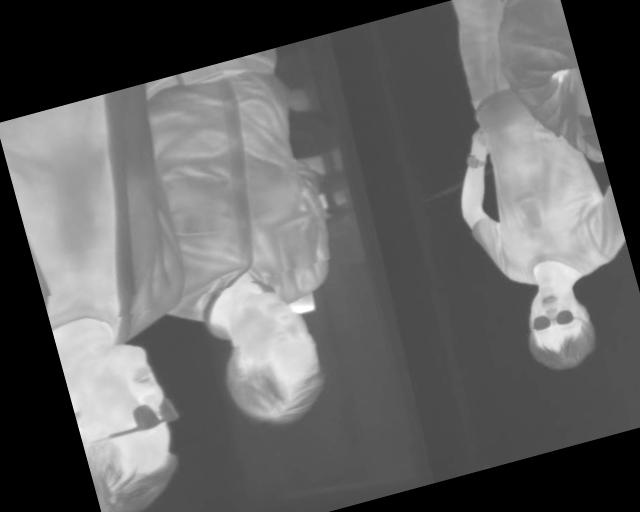face: (60, 336, 197, 512), (203, 283, 335, 436), (514, 272, 603, 378)
